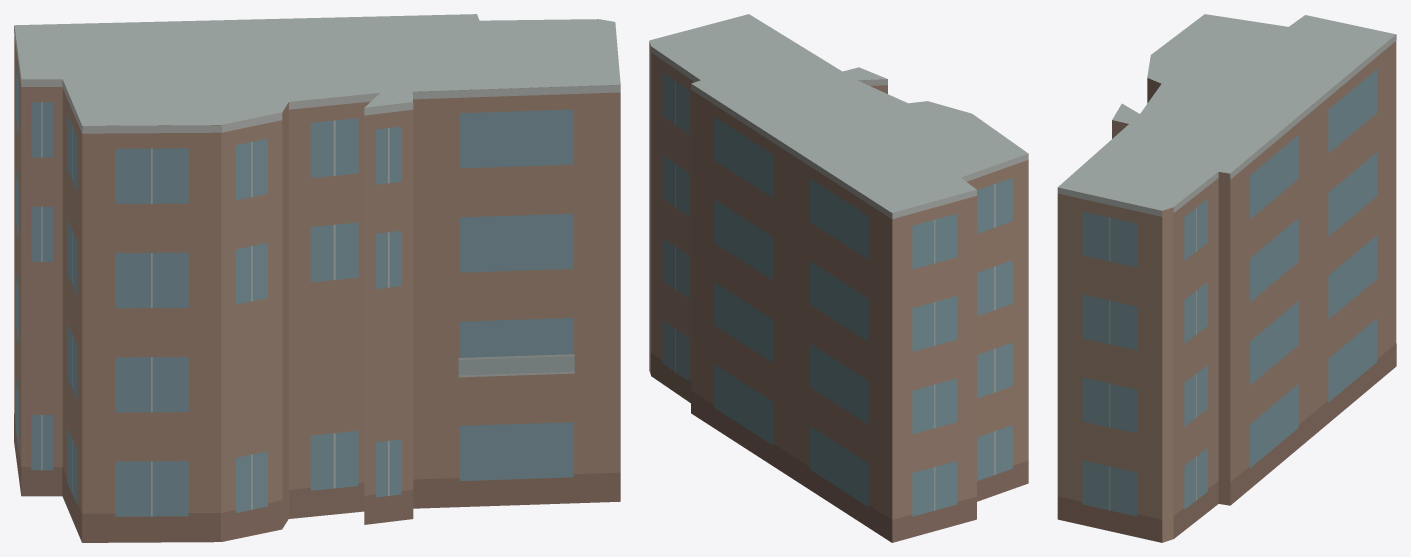
Rendered from survey-upis-32460317.glb.
3 views of the same model, side by side, from view 1: azimuth 30°, elevation 25°; view 2: azimuth 150°, elevation 25°; view 3: azimuth 270°, elevation 25° (orthographic). The views are drawn at different scales.
Parts seen in each view (by area): view 1: survey-upis-32460317.tmp; view 2: survey-upis-32460317.tmp; view 3: survey-upis-32460317.tmp.
Boxes of the visible parts, box(x1,y1,x2,y2) form: survey-upis-32460317.tmp: box(14, 14, 620, 542); survey-upis-32460317.tmp: box(649, 14, 1028, 542); survey-upis-32460317.tmp: box(1057, 14, 1396, 542).
Bounding box in the file's own units: 16.79 × 13.2 × 12.22.
